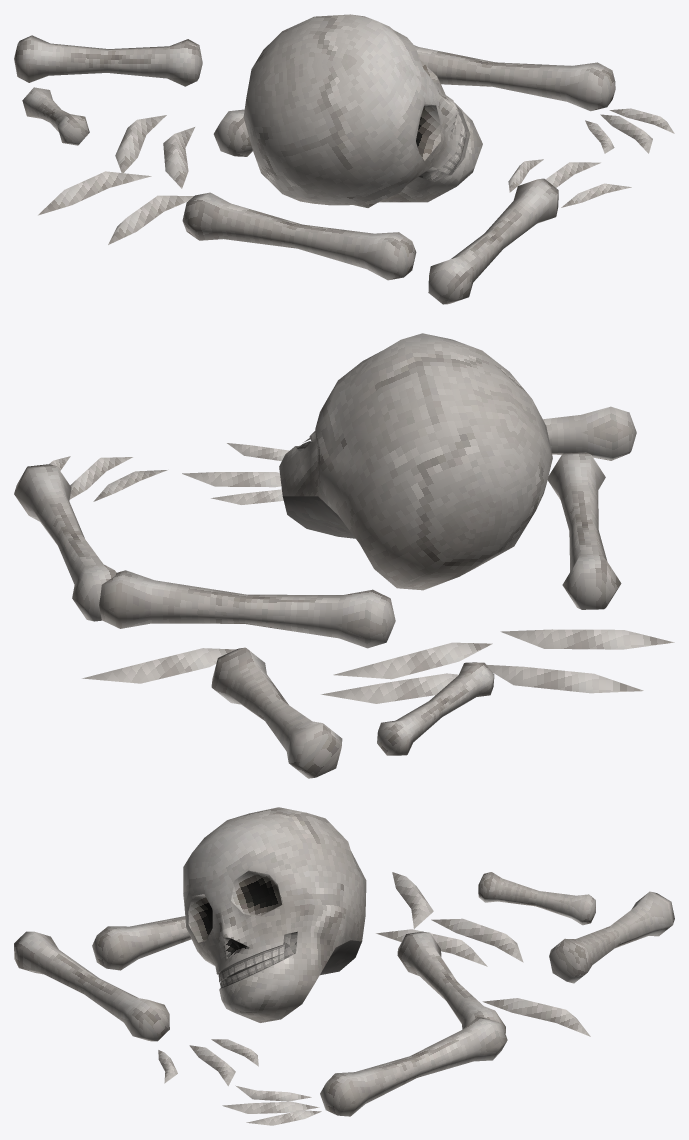
The model's file is Skeleton.fbx.
3 renders of one model, top to bottom at view 1: azimuth 30°, elevation 25°; view 2: azimuth 150°, elevation 25°; view 3: azimuth 270°, elevation 25°, orthographic. The views are drawn at different scales.
Visible parts, largest first — view 1: skeleton; view 2: skeleton; view 3: skeleton.
Part boxes in pixels (x1=…): skeleton: x1=14, y1=14, x2=674, y2=304; skeleton: x1=14, y1=333, x2=674, y2=778; skeleton: x1=14, y1=807, x2=674, y2=1125.
Size of the model in its own units: 1.21 by 0.3809 by 1.32.
